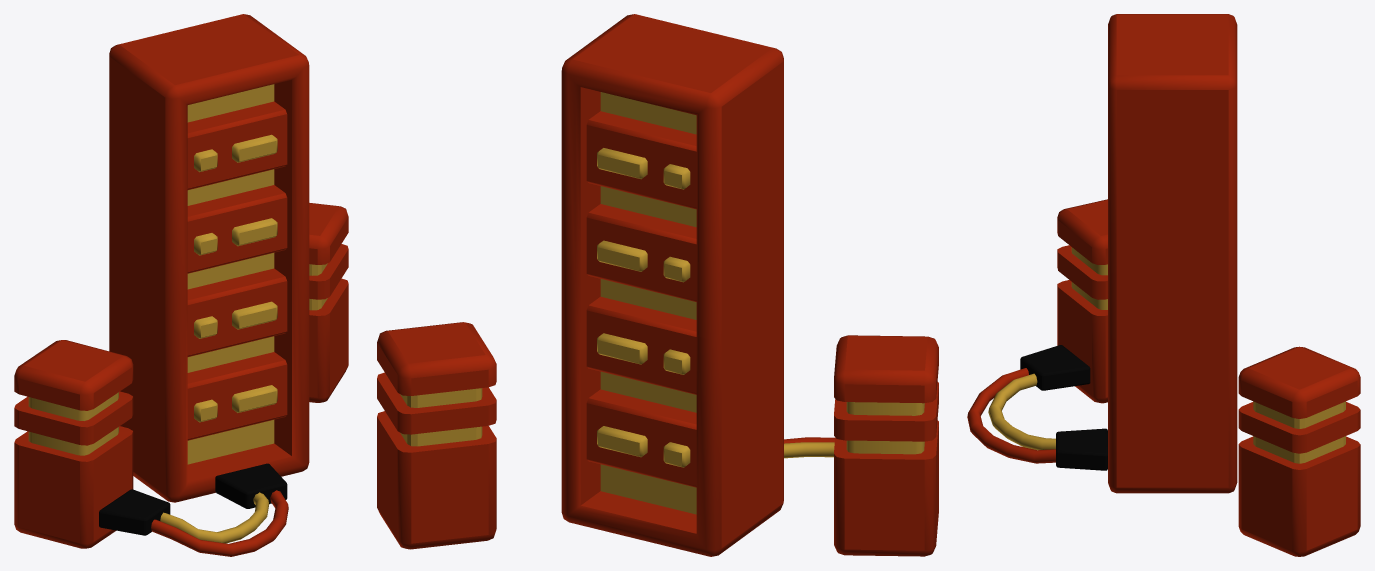
The model's file is Command Center Inside Fractured.fbx.
3 renders of one model, left to right at view 1: azimuth 30°, elevation 25°; view 2: azimuth 150°, elevation 25°; view 3: azimuth 270°, elevation 25°, orthographic. The views are drawn at different scales.
Visible parts, largest first — view 1: Command Center Inside Fracture.004, Command Center Inside Fracture, Command Center Inside Fracture.001, Command Center Inside Fracture.003, Command Center Inside Fracture.002; view 2: Command Center Inside Fracture.004, Command Center Inside Fracture, Command Center Inside Fracture.002, Command Center Inside Fracture.001, Command Center Inside Fracture.003; view 3: Command Center Inside Fracture.004, Command Center Inside Fracture, Command Center Inside Fracture.002, Command Center Inside Fracture.001, Command Center Inside Fracture.003.
Boxes of the visible parts, <box> form: Command Center Inside Fracture.004: <box>109,14,309,306</box>; Command Center Inside Fracture: <box>109,251,309,502</box>; Command Center Inside Fracture.001: <box>14,340,133,548</box>; Command Center Inside Fracture.003: <box>99,463,288,556</box>; Command Center Inside Fracture.002: <box>309,203,348,402</box>; Command Center Inside Fracture.004: <box>561,14,783,339</box>; Command Center Inside Fracture: <box>561,277,783,556</box>; Command Center Inside Fracture.002: <box>377,322,496,549</box>; Command Center Inside Fracture.001: <box>834,335,938,556</box>; Command Center Inside Fracture.003: <box>784,437,834,458</box>; Command Center Inside Fracture.004: <box>1108,14,1237,279</box>; Command Center Inside Fracture: <box>1108,275,1237,493</box>; Command Center Inside Fracture.002: <box>1238,346,1360,556</box>; Command Center Inside Fracture.001: <box>1057,199,1107,403</box>; Command Center Inside Fracture.003: <box>967,345,1107,470</box>.
Bounding box in the file's own units: 522 × 500 × 426.
